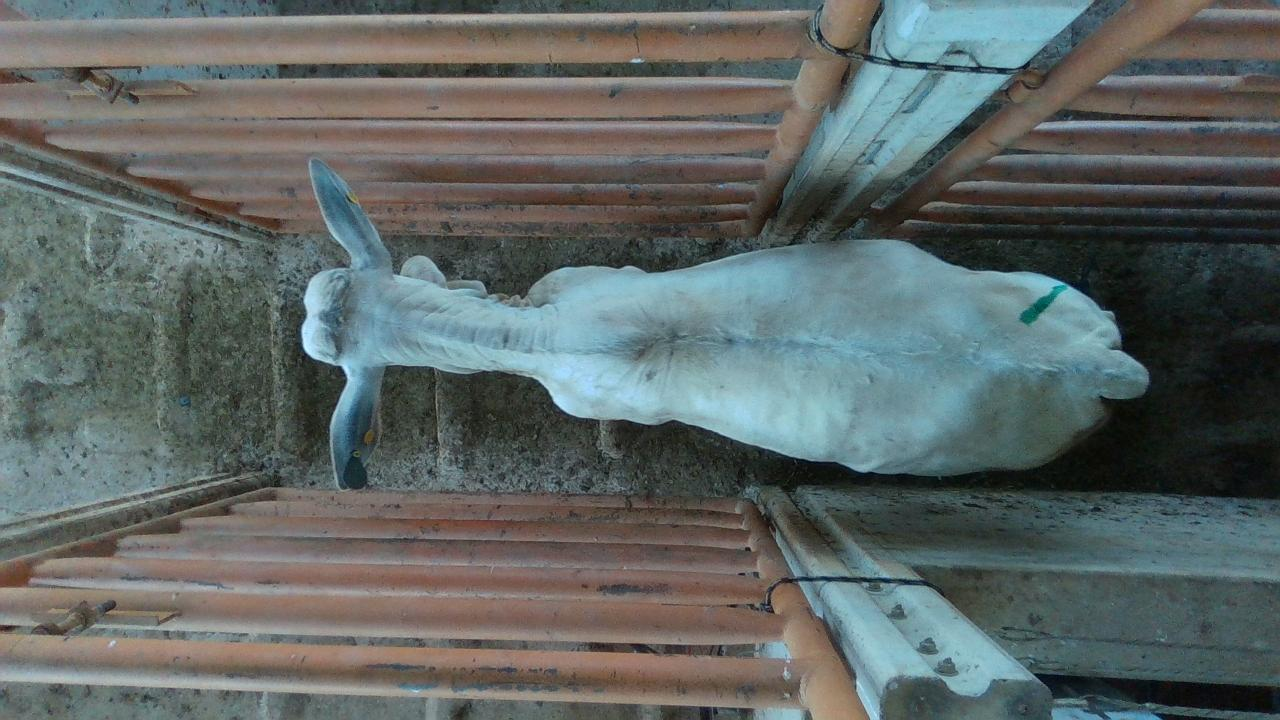cattle: (298, 156, 1150, 488)
